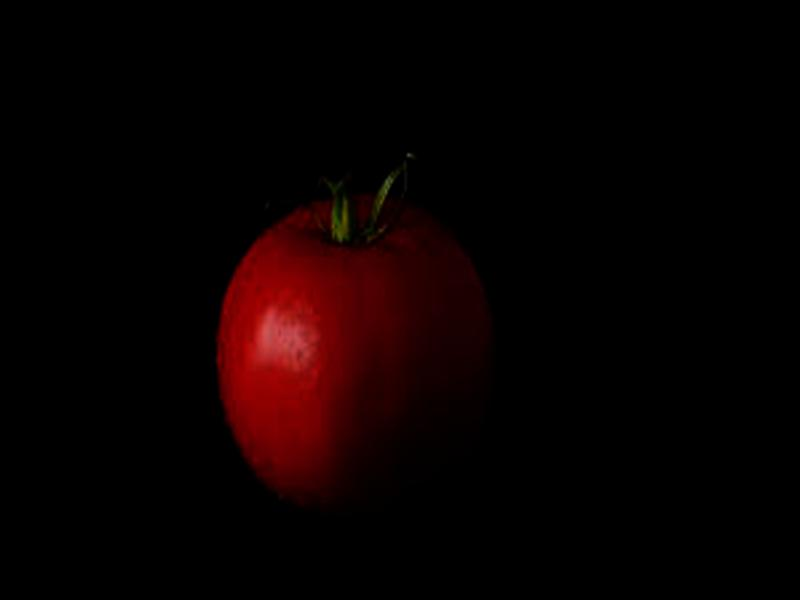Tomato: (217, 193, 495, 507)
